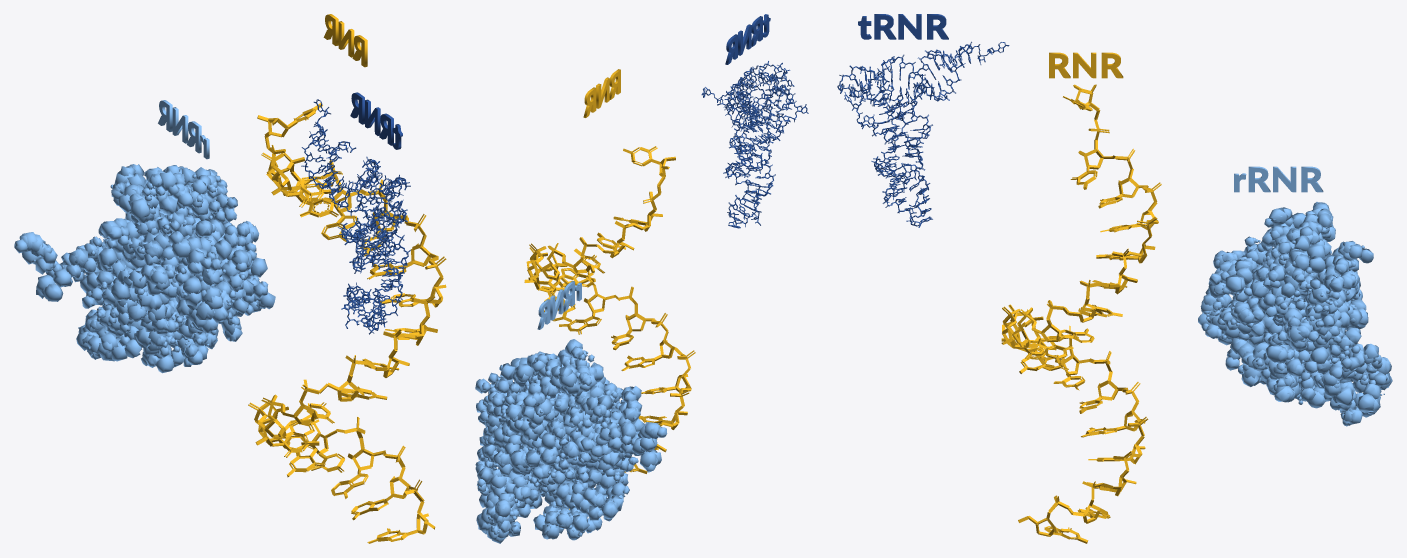
The model's file is RNA.glb.
The picture shows the model from 3 angles, left to right: view 1: azimuth 30°, elevation 25°; view 2: azimuth 150°, elevation 25°; view 3: azimuth 270°, elevation 25°; orthographic projection. The views are drawn at different scales.
Parts seen in each view (by area): view 1: Shape_Cylinder.001, rna, trna.001, Text; view 2: Shape_Cylinder.001, rna, trna.001, Text; view 3: Shape_Cylinder.001, rna, trna.001, Text.
Boxes of the visible parts, x1,y1,x2,y2 form: Shape_Cylinder.001: [14, 100, 275, 373]; rna: [248, 103, 446, 543]; trna.001: [301, 92, 410, 334]; Text: [323, 14, 367, 67]; Shape_Cylinder.001: [475, 281, 667, 543]; rna: [524, 146, 695, 509]; trna.001: [701, 14, 808, 228]; Text: [583, 69, 620, 117]; Shape_Cylinder.001: [1198, 166, 1392, 426]; rna: [1001, 84, 1161, 543]; trna.001: [837, 14, 1009, 227]; Text: [1049, 52, 1123, 78].
Bounding box in the file's own units: 11.69 × 20.33 × 21.37.
